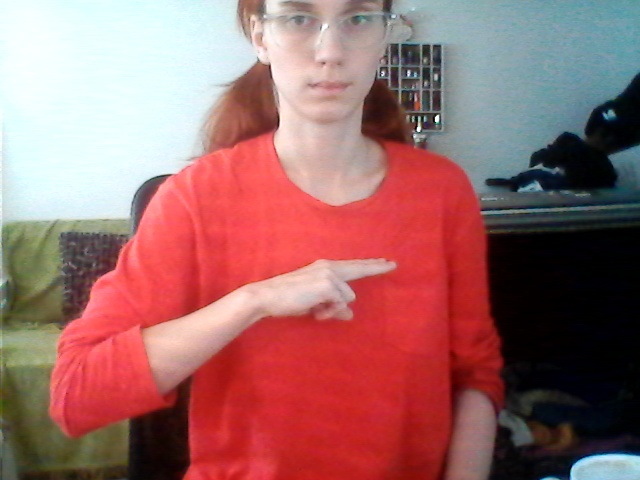frajer: (254, 240, 409, 344)
